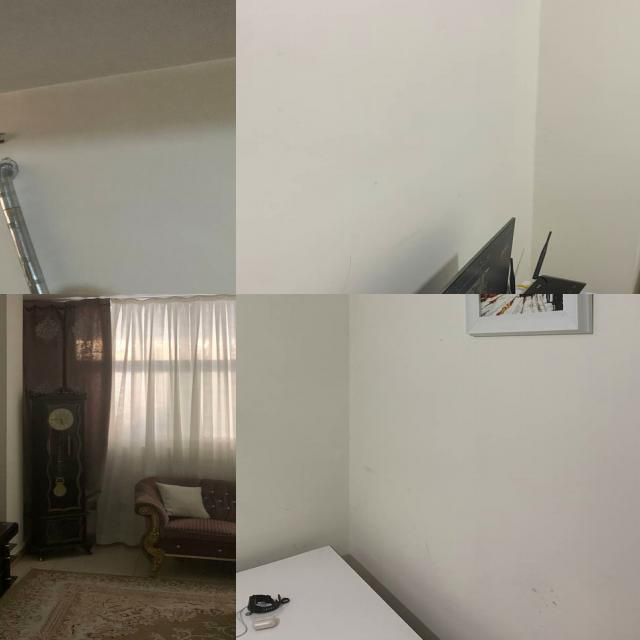Floor: (12, 525, 158, 577)
Wall: (360, 294, 640, 640), (236, 0, 538, 294), (0, 57, 236, 294), (236, 294, 350, 572)
